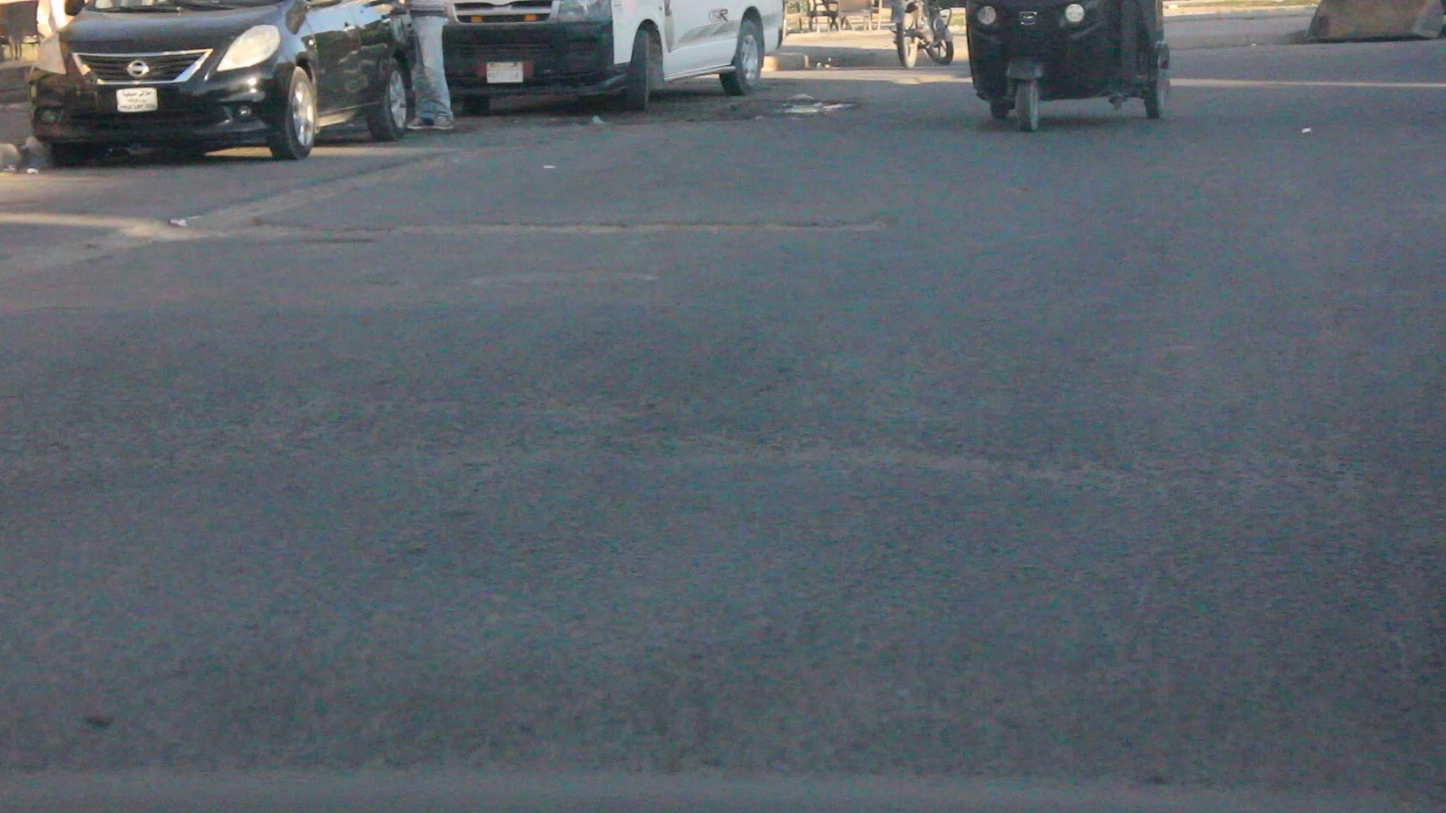Bump: (0, 455, 1445, 802), (1167, 27, 1306, 52)
Pothole: (9, 145, 892, 270), (718, 98, 852, 118)
